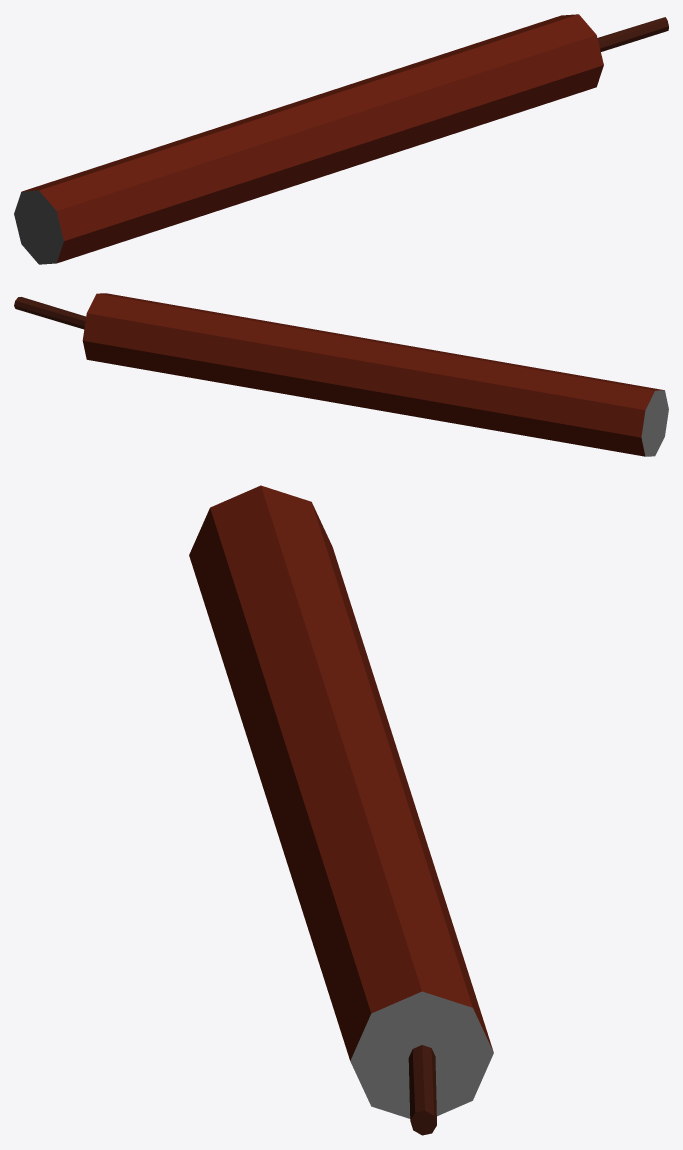
File: TNT.glb
3 renders of one model, top to bottom at view 1: azimuth 30°, elevation 25°; view 2: azimuth 150°, elevation 25°; view 3: azimuth 270°, elevation 25°, orthographic. The views are drawn at different scales.
Parts seen in each view (by area): view 1: TNT; view 2: TNT; view 3: TNT.
Part boxes in pixels (x1,y1,x2,y2): TNT: (14, 14, 668, 264); TNT: (14, 293, 668, 456); TNT: (189, 485, 493, 1135).
Bounding box in the file's own units: 0.6241 × 0.0652 × 0.137.
Materials: 1 (1 with a texture image).
